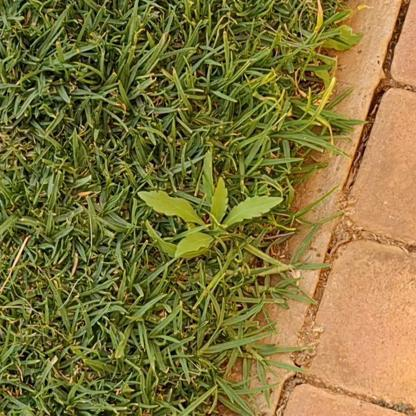Weeds: (137, 178, 284, 256)
